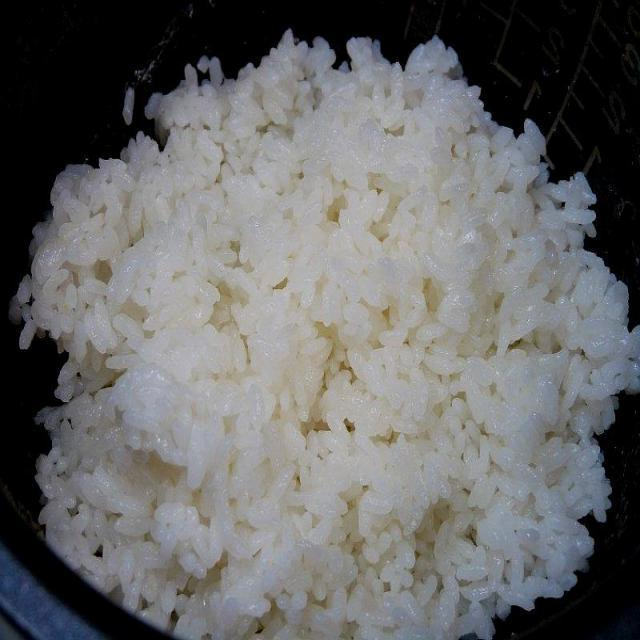rice: (15, 27, 636, 639)
